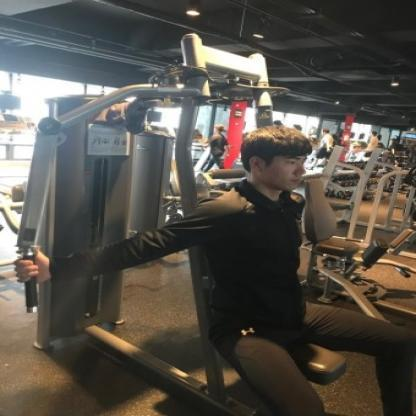chest fly machine: (0, 14, 416, 385)
